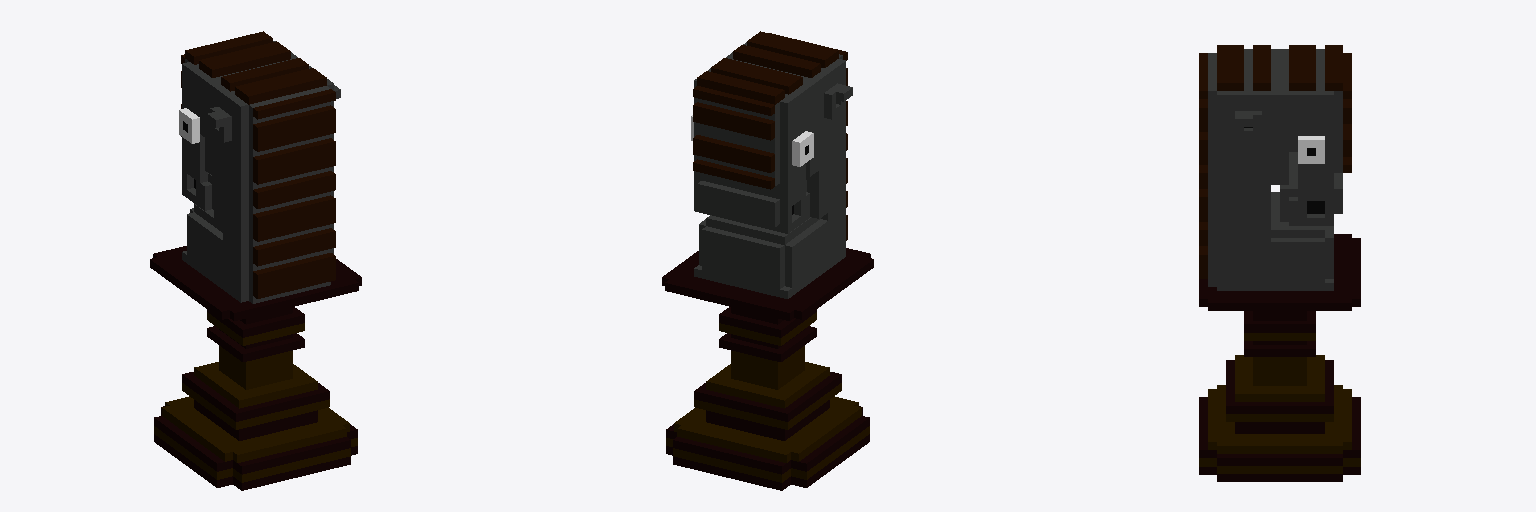
3 views of the same model, side by side, from view 1: azimuth 30°, elevation 25°; view 2: azimuth 150°, elevation 25°; view 3: azimuth 270°, elevation 25° (orthographic).
Parts seen in each view (by area): view 1: object 1; view 2: object 1; view 3: object 1.
Part boxes in pixels (left/top/right/bottom): object 1: left=150, top=31, right=361, bottom=490; object 1: left=662, top=31, right=873, bottom=490; object 1: left=1199, top=45, right=1360, bottom=481.
Bounding box in the file's own units: 1.8 × 4.7 × 1.8.
Materials: 1 (1 with a texture image).